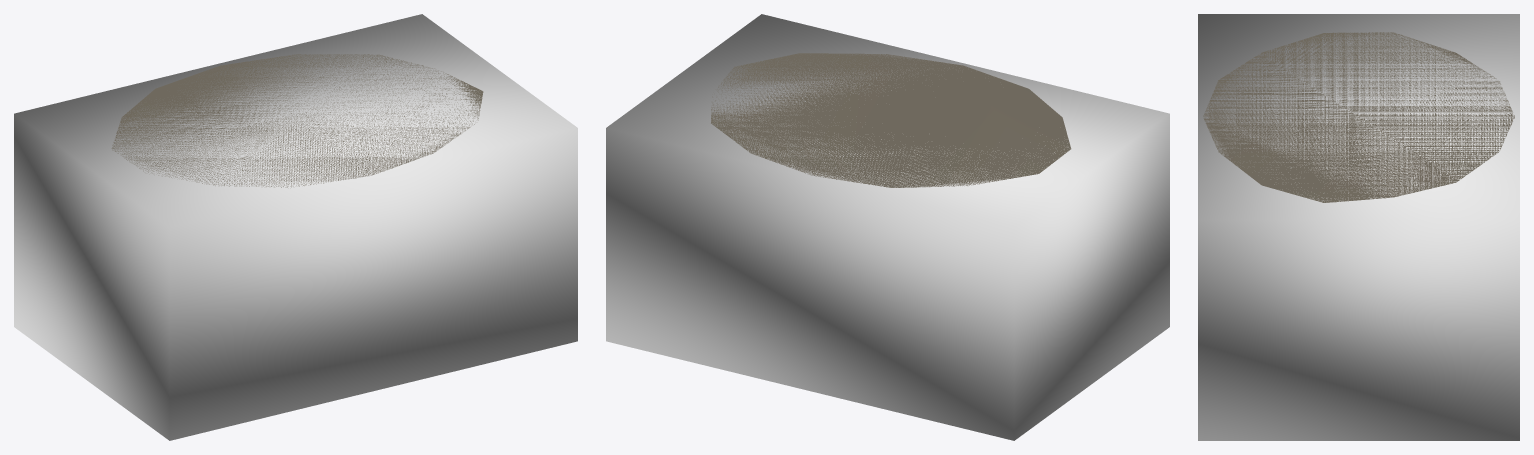
File: lata_vacia.glb
3 views of the same model, side by side, from view 1: azimuth 30°, elevation 25°; view 2: azimuth 150°, elevation 25°; view 3: azimuth 270°, elevation 25° (orthographic). The views are drawn at different scales.
Parts seen in each view (by area): view 1: lata-colcaja, lata; view 2: lata-colcaja, lata; view 3: lata-colcaja, lata.
Part boxes in pixels (bbox=[...]): lata-colcaja: bbox=[14, 14, 577, 440]; lata: bbox=[111, 54, 483, 187]; lata-colcaja: bbox=[606, 14, 1169, 440]; lata: bbox=[711, 53, 1071, 187]; lata-colcaja: bbox=[1198, 14, 1519, 440]; lata: bbox=[1203, 32, 1514, 202].
Bounding box in the file's own units: 0.1 × 0.05 × 0.066.
